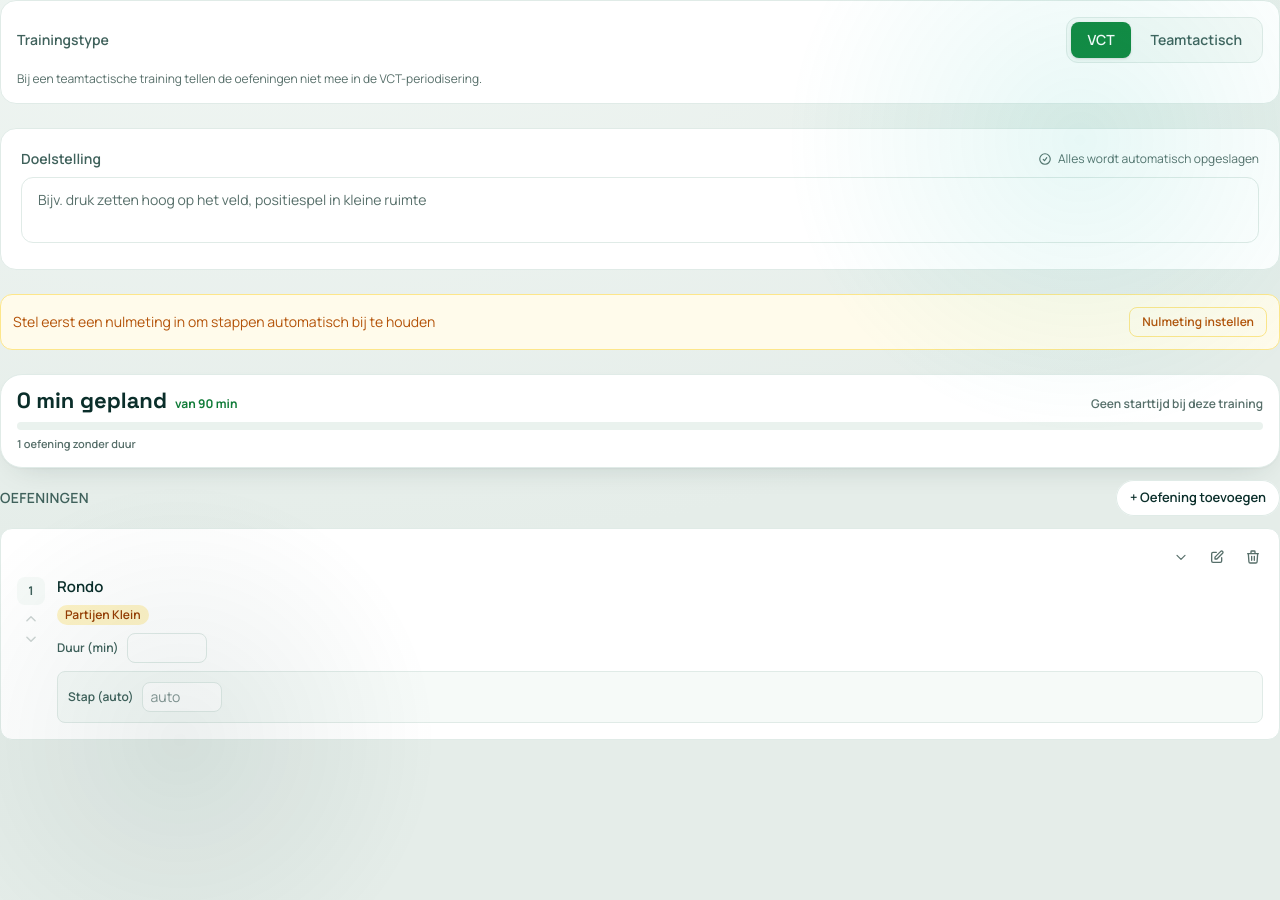
Test: AC2 — trainingskaart: opslaan werkt de oefening bij en sluit het formulier › roept de echte updateOefening aan; na sluiten toont de kaart de bijgewerkte naam zonder page-reload
The width and height of the screenshot is (1280, 900).
Click the button named "Oefening bewerken: Rondo" at point(1217, 556), box [1201, 540, 1233, 572]
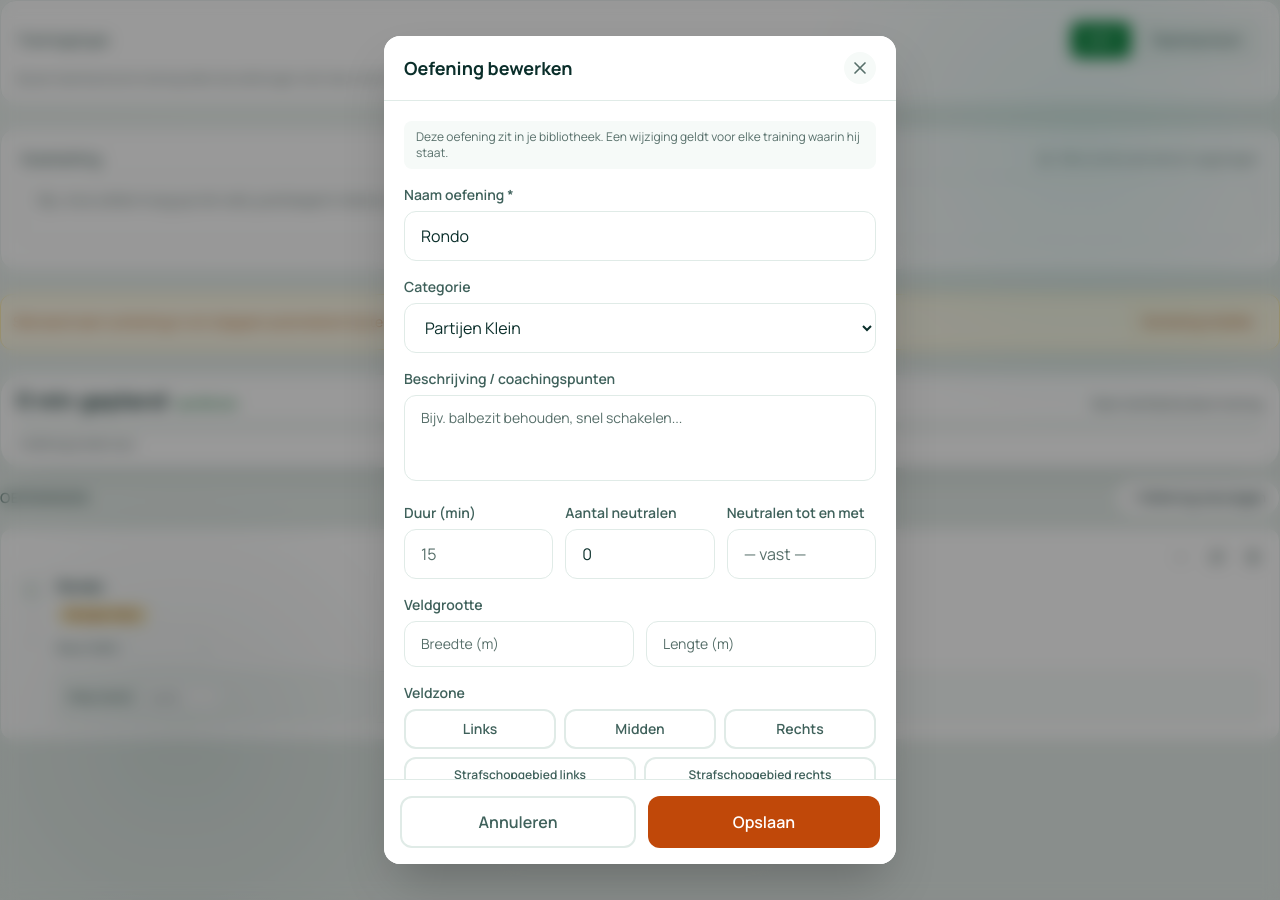
Replace the text in the field labelled "Naam oefening *" with "Rondo bijgewerkt" at point(640, 236), box [404, 211, 876, 261]
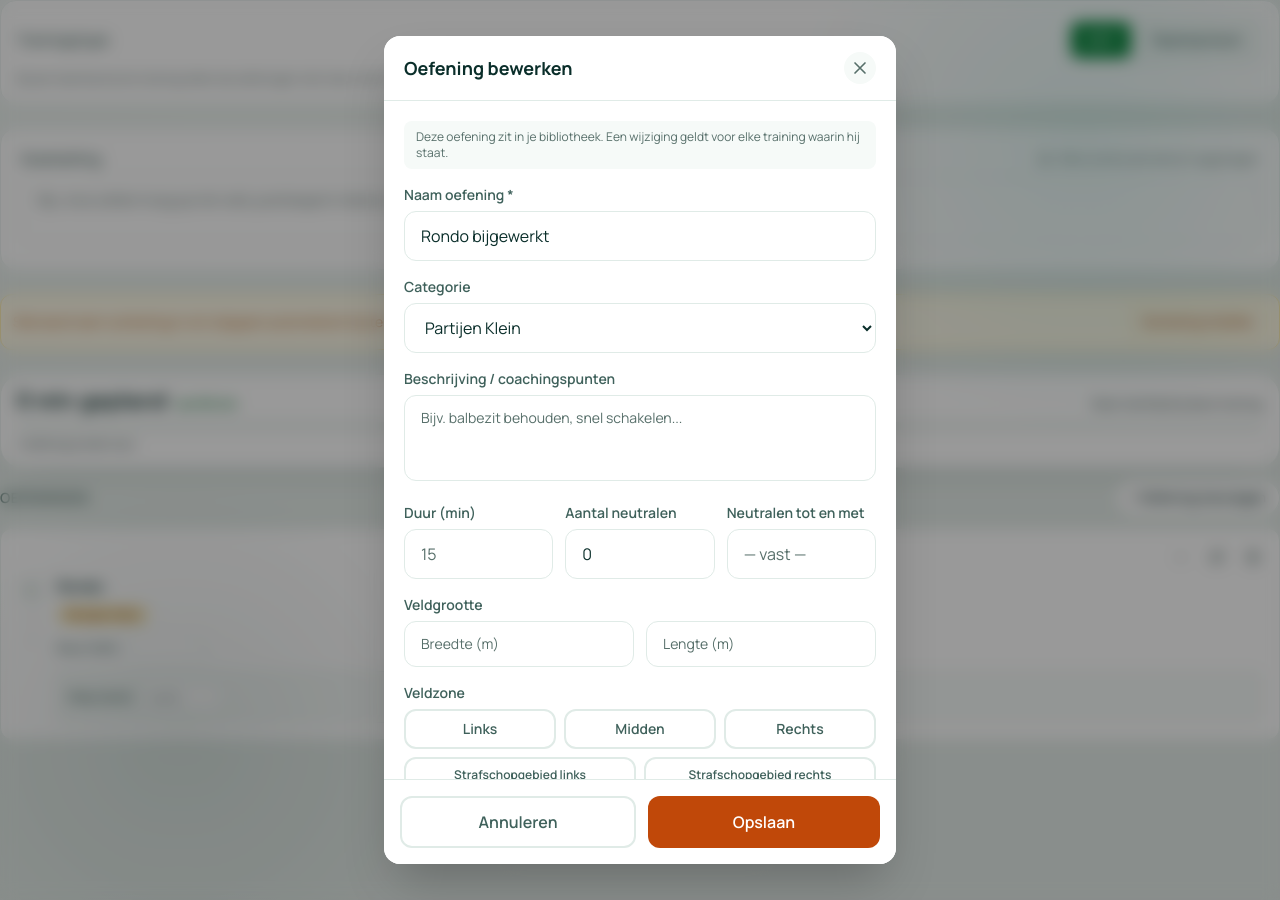
Click the button "Opslaan" at point(764, 822), box [648, 796, 880, 848]
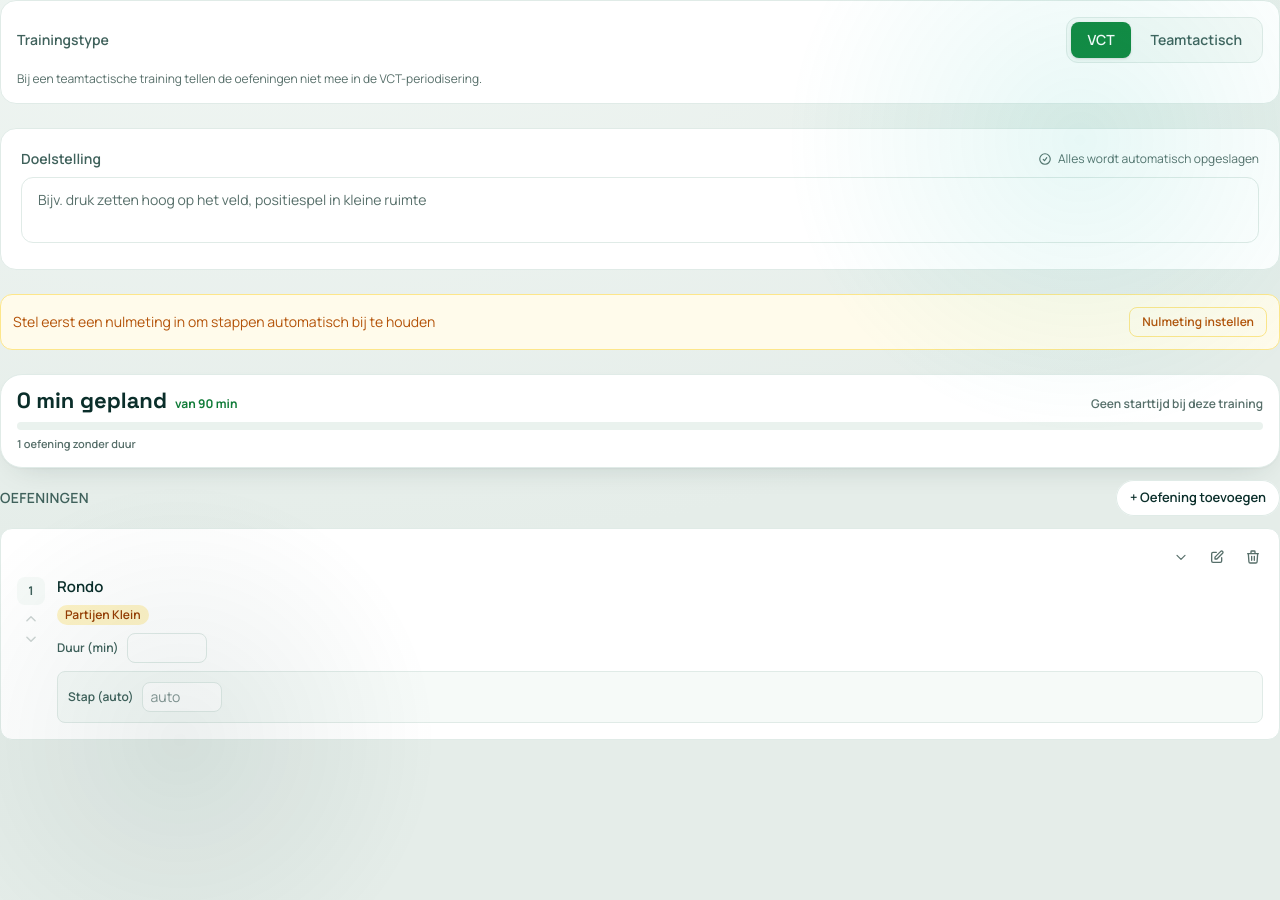
Check: the heading "Oefening bewerken" is gone
